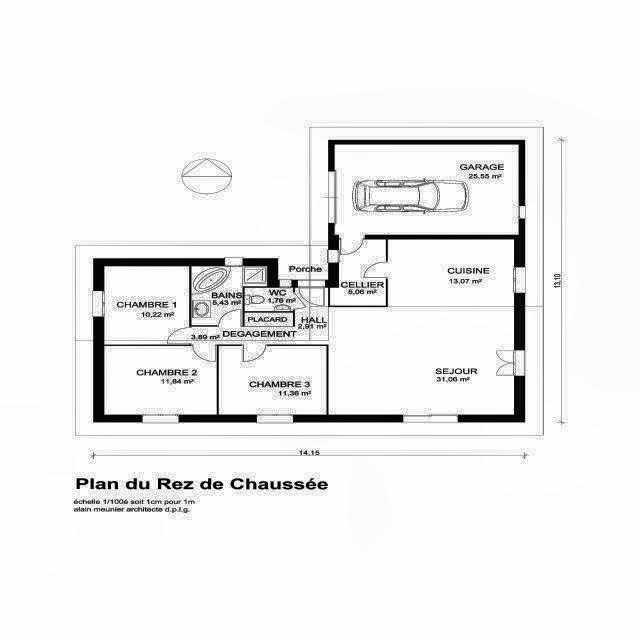room: (191, 239, 514, 415), (335, 144, 518, 235), (105, 346, 217, 415), (219, 346, 326, 414), (105, 266, 189, 344), (191, 266, 267, 325), (330, 239, 386, 306), (245, 288, 293, 311)
